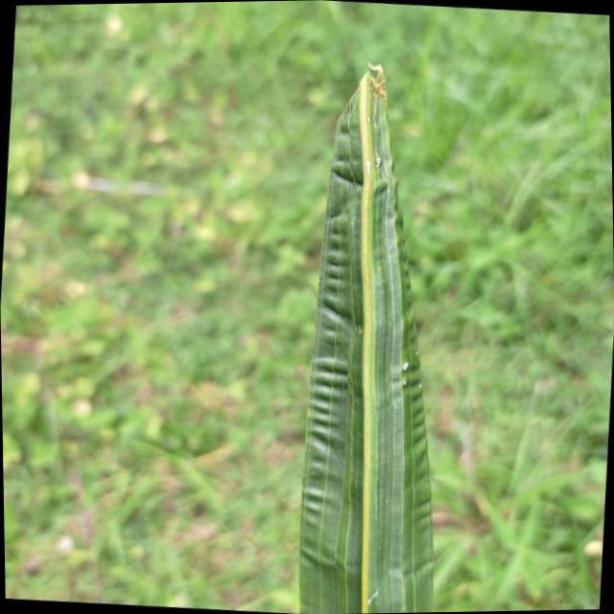Boron: (297, 40, 435, 614)
